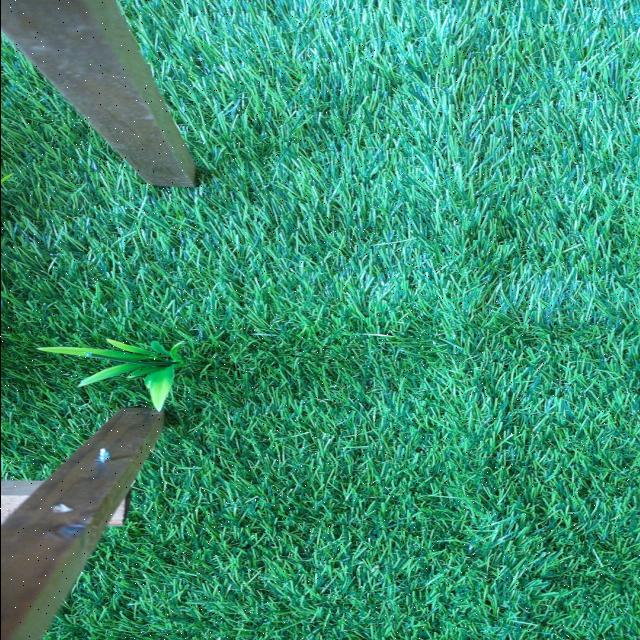base: (46, 336, 185, 406)
